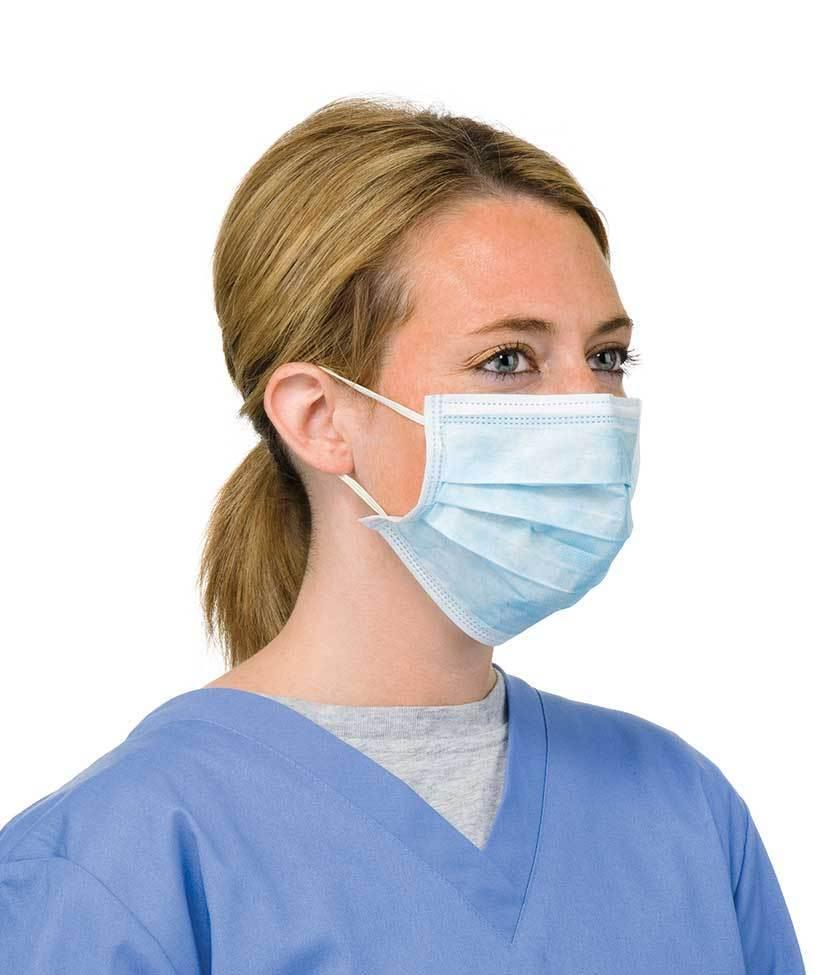Wearing Mask: (213, 60, 730, 682)
